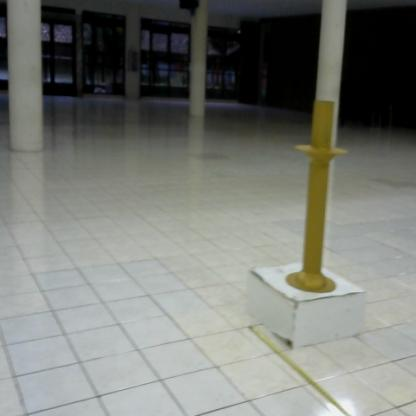pole: (279, 100, 358, 298)
